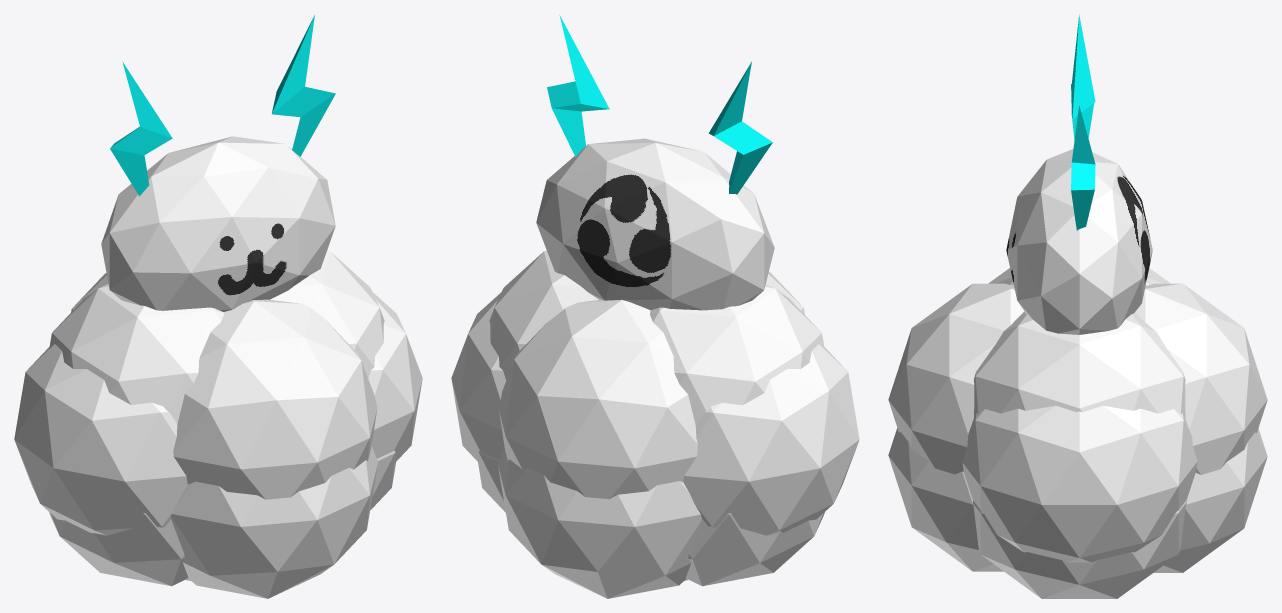
File: cloud.obj
3 renders of one model, left to right at view 1: azimuth 30°, elevation 25°; view 2: azimuth 150°, elevation 25°; view 3: azimuth 270°, elevation 25°, orthographic. The views are drawn at different scales.
Parts seen in each view (by area): view 1: ICO球.001_ICO球.004; view 2: ICO球.001_ICO球.004; view 3: ICO球.001_ICO球.004.
Boxes of the visible parts, left/top/right/bottom form: ICO球.001_ICO球.004: left=14, top=15, right=422, bottom=598; ICO球.001_ICO球.004: left=451, top=15, right=859, bottom=598; ICO球.001_ICO球.004: left=888, top=14, right=1267, bottom=598.
Size of the model in its own units: 2.06 by 2.88 by 1.9.
1 material, 1 textured.
